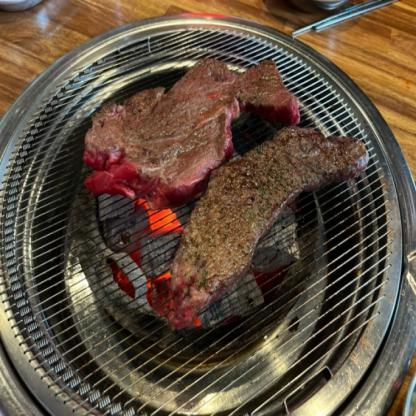Carne: (159, 122, 368, 328), (78, 51, 298, 215)
